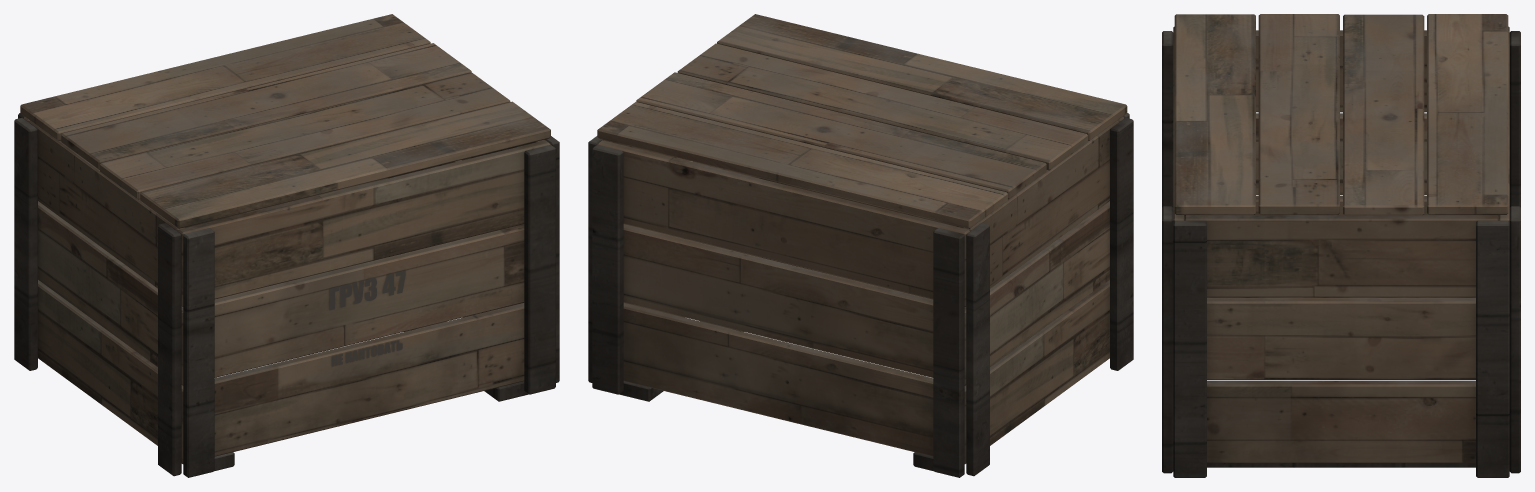
Rendered from Crate.fbx.
3 views of the same model, side by side, from view 1: azimuth 30°, elevation 25°; view 2: azimuth 150°, elevation 25°; view 3: azimuth 270°, elevation 25° (orthographic). The views are drawn at different scales.
Parts seen in each view (by area): view 1: Crate_Mesh; view 2: Crate_Mesh; view 3: Crate_Mesh.
Part boxes in pixels (x1=…): Crate_Mesh: x1=14, y1=14, x2=559, y2=477; Crate_Mesh: x1=588, y1=14, x2=1133, y2=477; Crate_Mesh: x1=1162, y1=14, x2=1520, y2=477.
Bounding box in the file's own units: 0.84 × 0.539 × 0.64.
